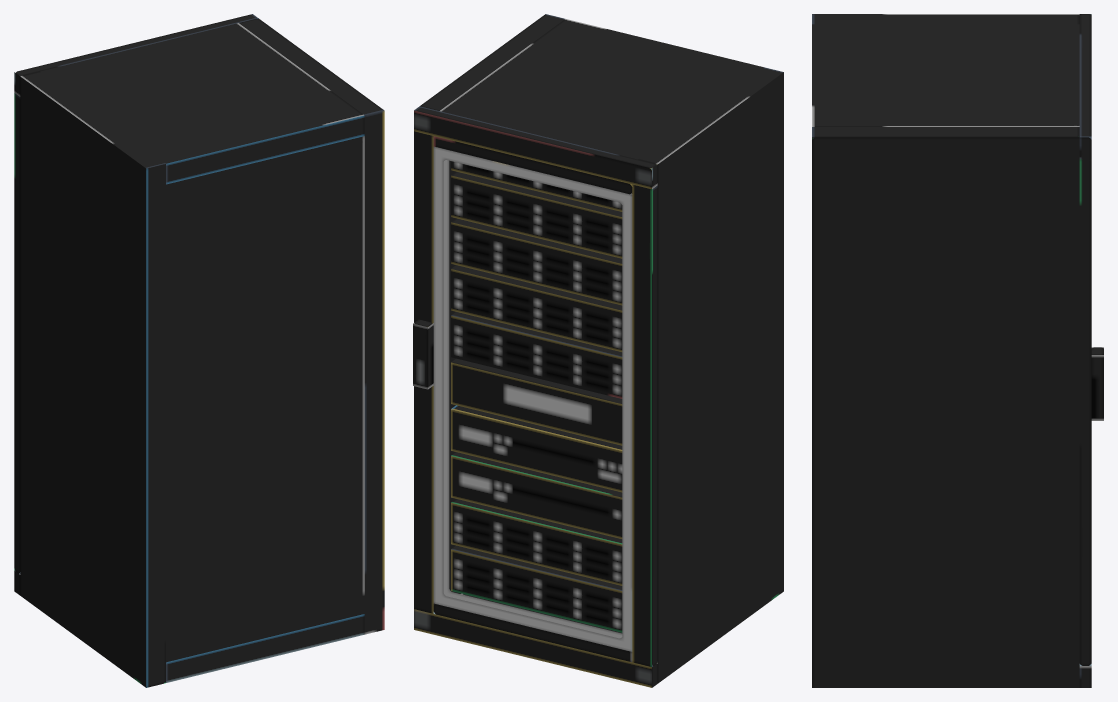
The model's file is Server_1.fbx.
The picture shows the model from 3 angles, left to right: view 1: azimuth 30°, elevation 25°; view 2: azimuth 150°, elevation 25°; view 3: azimuth 270°, elevation 25°; orthographic projection. The views are drawn at different scales.
Parts seen in each view (by area): view 1: cube_11, cube_8, cube_9, cube, cube_10, cube_2, cube_3; view 2: cube_8, cube_9, cube_22, cube_2, cube_1, cube_18, cube_13, cube_14, cube_16, cube_17, cube_20, cube_21 (+9 smaller); view 3: cube, cube_9, cube_1, cube_8, cube_3, cube_7.
Part boxes in pixels (x1=…): cube_11: x1=166, y1=136, x2=364, y2=662; cube_8: x1=20, y1=71, x2=165, y2=687; cube_9: x1=40, y1=23, x2=364, y2=184; cube: x1=239, y1=18, x2=384, y2=634; cube_10: x1=166, y1=614, x2=364, y2=682; cube_2: x1=14, y1=93, x2=20, y2=574; cube_3: x1=14, y1=14, x2=257, y2=96; cube_8: x1=638, y1=67, x2=783, y2=683; cube_9: x1=440, y1=19, x2=763, y2=159; cube_22: x1=433, y1=146, x2=632, y2=651; cube_2: x1=632, y1=184, x2=657, y2=666; cube_1: x1=414, y1=131, x2=435, y2=613; cube_18: x1=451, y1=405, x2=622, y2=492; cube_13: x1=451, y1=218, x2=622, y2=305; cube_14: x1=451, y1=171, x2=622, y2=258; cube_16: x1=451, y1=312, x2=622, y2=398; cube_17: x1=451, y1=358, x2=622, y2=445; cube_20: x1=451, y1=499, x2=622, y2=585; cube_21: x1=451, y1=545, x2=622, y2=632; cube: x1=812, y1=127, x2=1079, y2=687; cube_9: x1=812, y1=24, x2=1079, y2=138; cube_1: x1=1079, y1=159, x2=1091, y2=665; cube_8: x1=812, y1=14, x2=1079, y2=24; cube_3: x1=1079, y1=14, x2=1091, y2=159; cube_7: x1=1091, y1=347, x2=1103, y2=420.
Bounding box in the file's own units: 75 × 156 × 75.
Materials: 1 (1 with a texture image).
